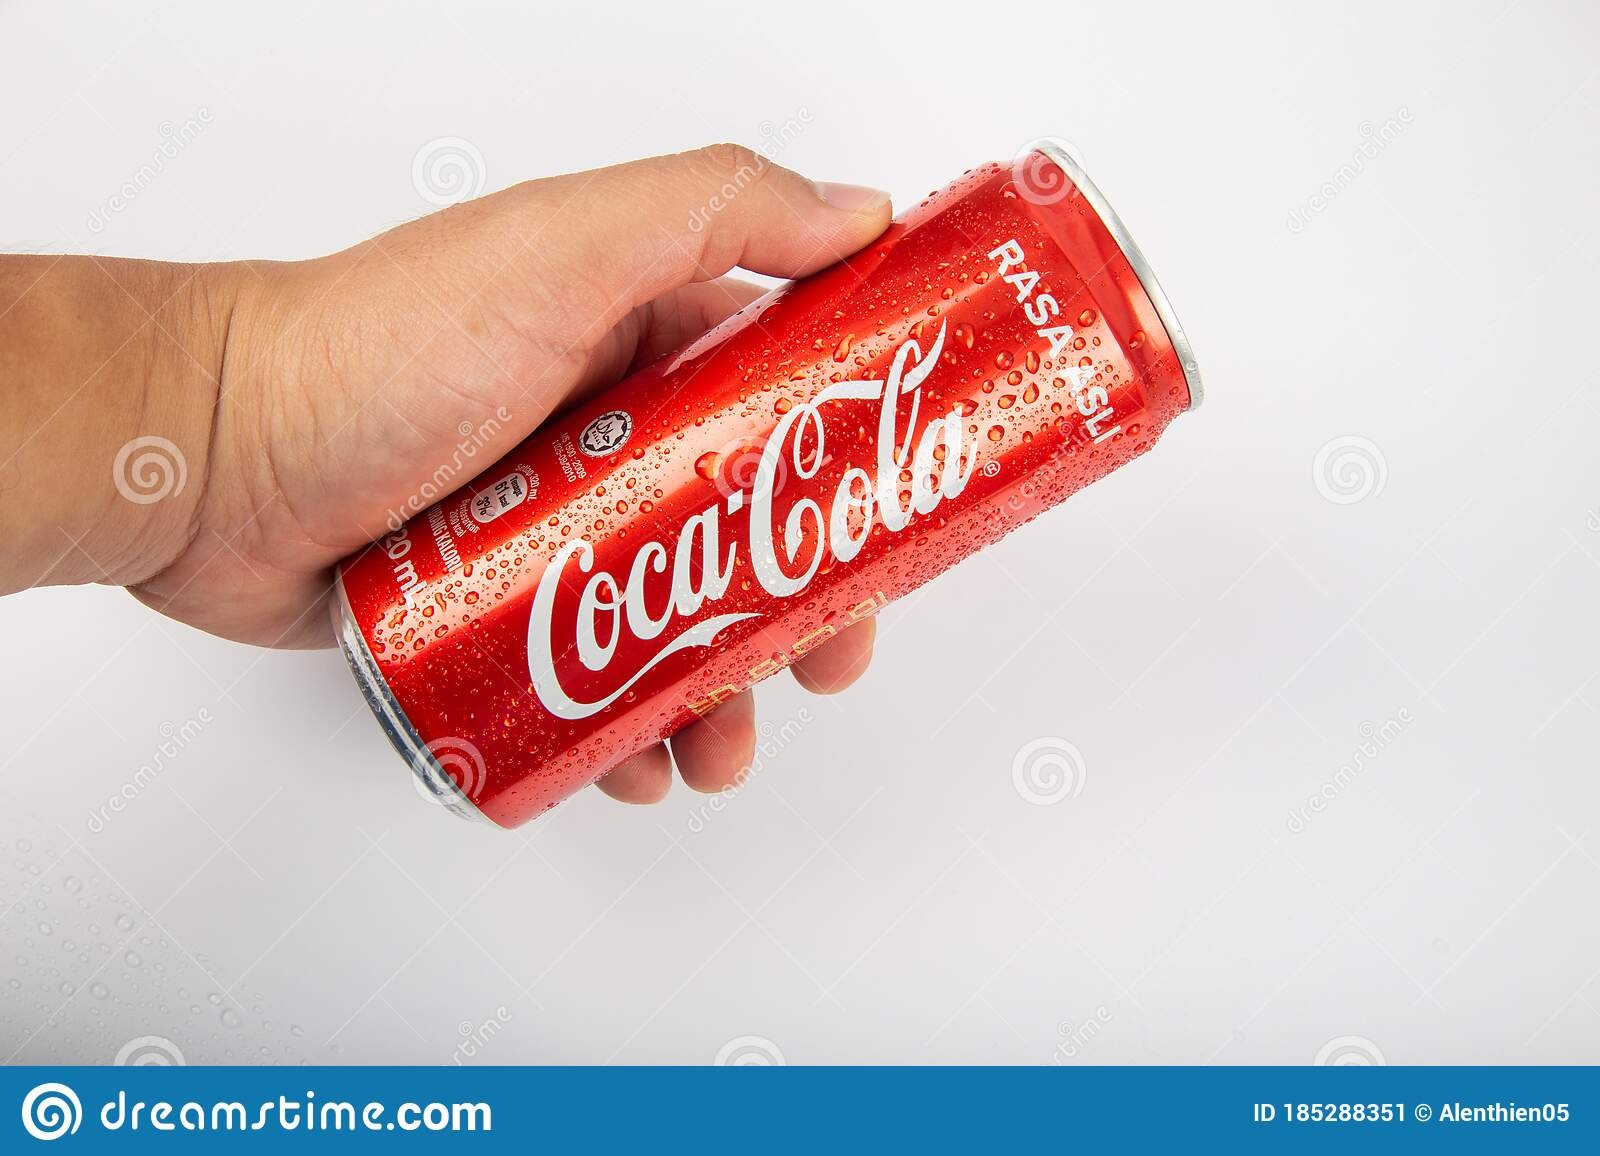can: (303, 127, 1211, 841)
